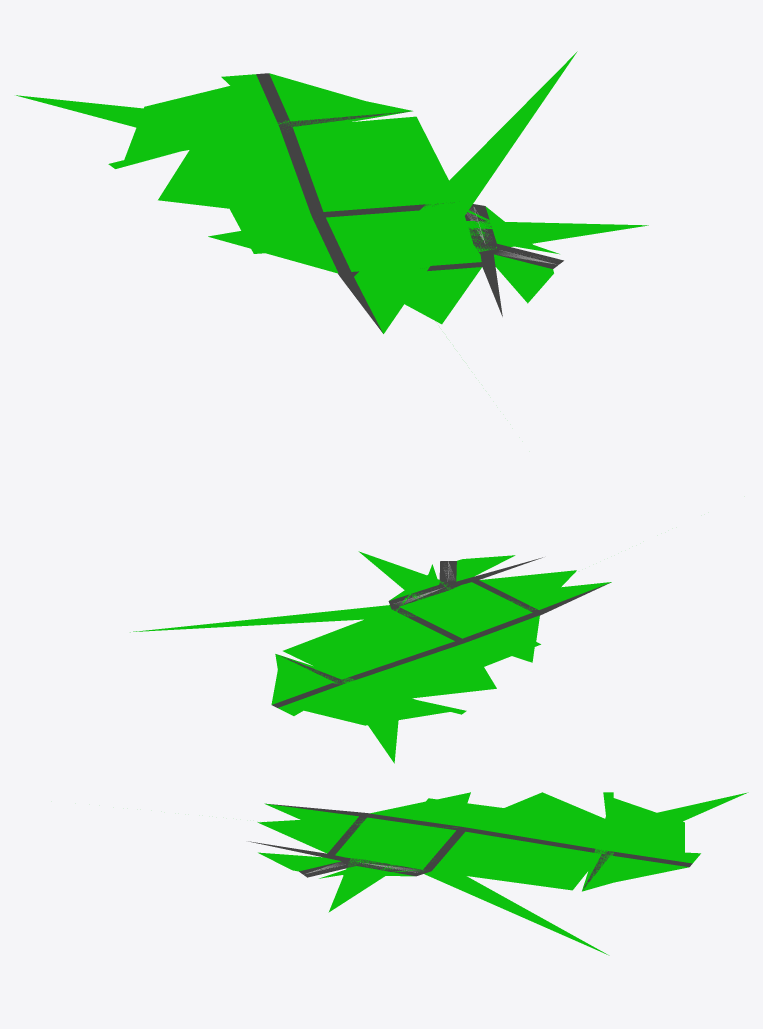
The picture shows the model from 3 angles, top to bottom: view 1: azimuth 30°, elevation 25°; view 2: azimuth 150°, elevation 25°; view 3: azimuth 270°, elevation 25°; orthographic projection. The views are drawn at different scales.
Size of the model in its own units: 221 by 0.001 by 309.
